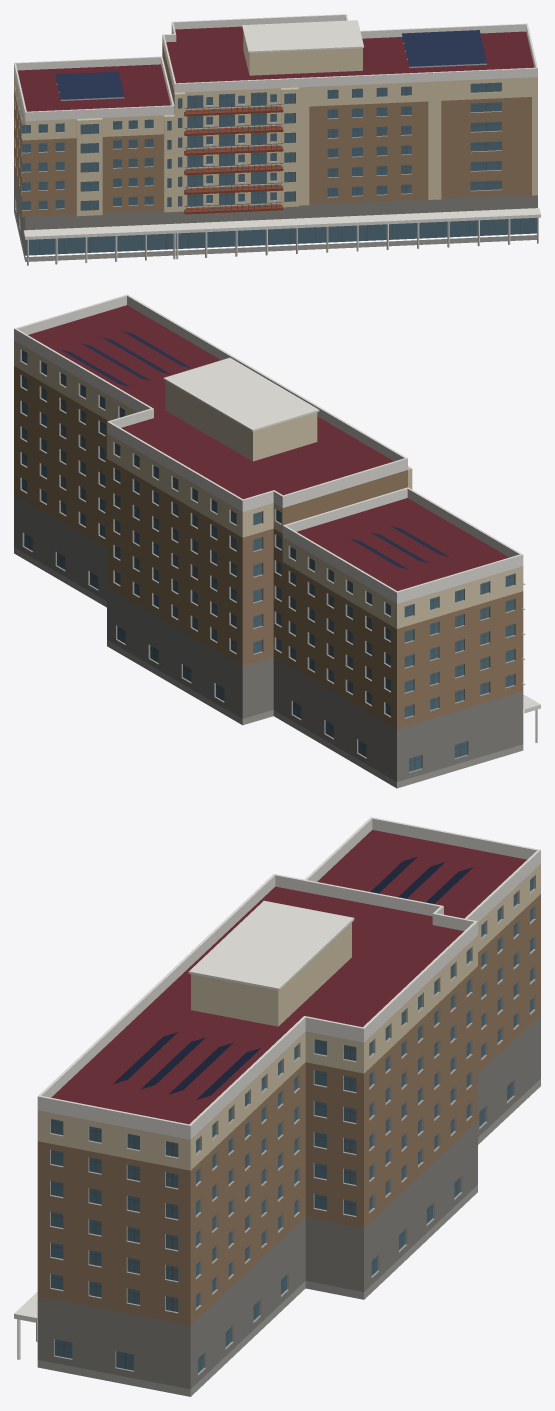
The picture shows the model from 3 angles, top to bottom: view 1: azimuth 30°, elevation 25°; view 2: azimuth 150°, elevation 25°; view 3: azimuth 270°, elevation 25°; orthographic projection. The views are drawn at different scales.
Visible parts, largest first — view 1: dorm__brick, dorm__glass, dorm__wall-plaster-cream, dorm__parapet-concrete, dorm__roof-metal-maroon, dorm__base-stone-dark, dorm__base-stone, dorm__frame, dorm__solar-panel, dorm__trim-rust; view 2: dorm__brick, dorm__roof-metal-maroon, dorm__base-stone-dark, dorm__parapet-concrete, dorm__wall-plaster-cream, dorm__glass, dorm__base-stone, dorm__frame, dorm__solar-panel; view 3: dorm__brick, dorm__roof-metal-maroon, dorm__base-stone-dark, dorm__parapet-concrete, dorm__wall-plaster-cream, dorm__glass, dorm__base-stone, dorm__solar-panel, dorm__frame.
Boxes of the visible parts, box(x1,y1,x2,y2) form: dorm__brick: box(14, 43, 531, 216); dorm__glass: box(21, 82, 536, 255); dorm__wall-plaster-cream: box(14, 32, 537, 216); dorm__parapet-concrete: box(14, 14, 540, 265); dorm__roof-metal-maroon: box(17, 26, 534, 111); dorm__base-stone-dark: box(14, 168, 537, 256); dorm__base-stone: box(14, 79, 536, 261); dorm__frame: box(21, 83, 520, 254); dorm__solar-panel: box(55, 30, 486, 99); dorm__trim-rust: box(184, 106, 283, 214); dorm__brick: box(14, 366, 523, 728); dorm__roof-metal-maroon: box(28, 305, 508, 590); dorm__base-stone-dark: box(14, 494, 523, 781); dorm__parapet-concrete: box(14, 294, 540, 742); dorm__wall-plaster-cream: box(14, 340, 523, 628); dorm__glass: box(22, 350, 514, 771); dorm__base-stone: box(14, 349, 525, 788); dorm__frame: box(21, 352, 514, 769); dorm__solar-panel: box(60, 331, 449, 569); dorm__brick: box(37, 894, 540, 1325); dorm__roof-metal-maroon: box(51, 830, 526, 1124); dorm__base-stone-dark: box(37, 1015, 540, 1389); dorm__parapet-concrete: box(14, 817, 540, 1359); dorm__wall-plaster-cream: box(37, 864, 540, 1170); dorm__glass: box(51, 877, 533, 1372); dorm__base-stone: box(37, 875, 540, 1396); dorm__solar-panel: box(113, 857, 473, 1099); dorm__frame: box(51, 878, 533, 1370).
Size of the model in its own units: 73.28 by 29.27 by 46.79.
